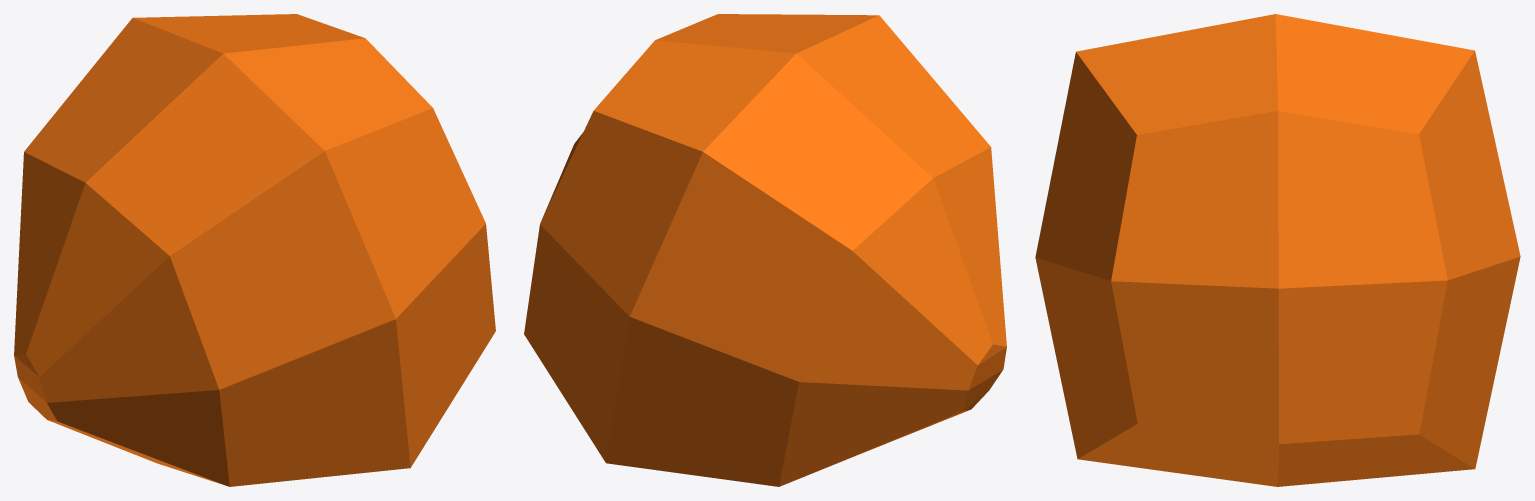
The model's file is orange.fbx.
3 renders of one model, left to right at view 1: azimuth 30°, elevation 25°; view 2: azimuth 150°, elevation 25°; view 3: azimuth 270°, elevation 25°, orthographic. The views are drawn at different scales.
Visible parts, largest first — view 1: orange; view 2: orange; view 3: orange.
Part boxes in pixels (box(x1,y1,x2,y2)): orange: box(14, 14, 495, 486); orange: box(524, 14, 1006, 486); orange: box(1035, 14, 1520, 486).
Size of the model in its own units: 6.4 by 5.65 by 5.9.
1 material, 1 textured.
